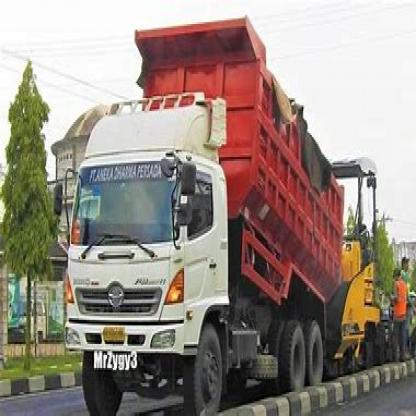dump_truck: (74, 30, 352, 408)
